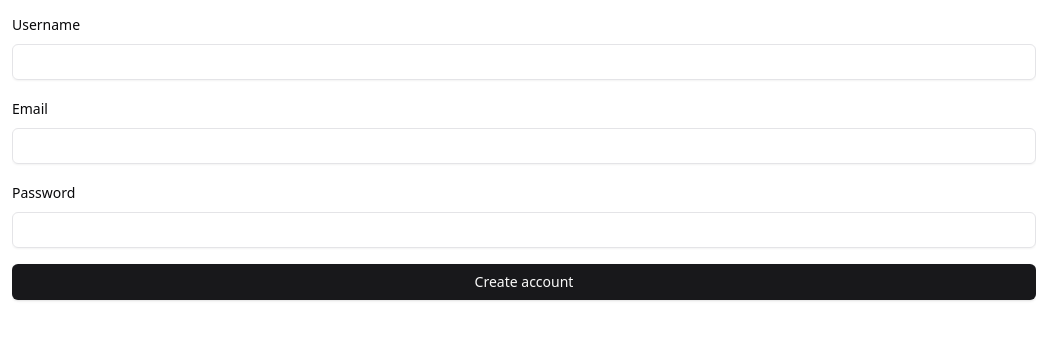
it: RegisterForm › requires a username
Type "new@example.com" into the field labelled "Email". click: coordinates (524, 146)
box: [12,128,1036,164]
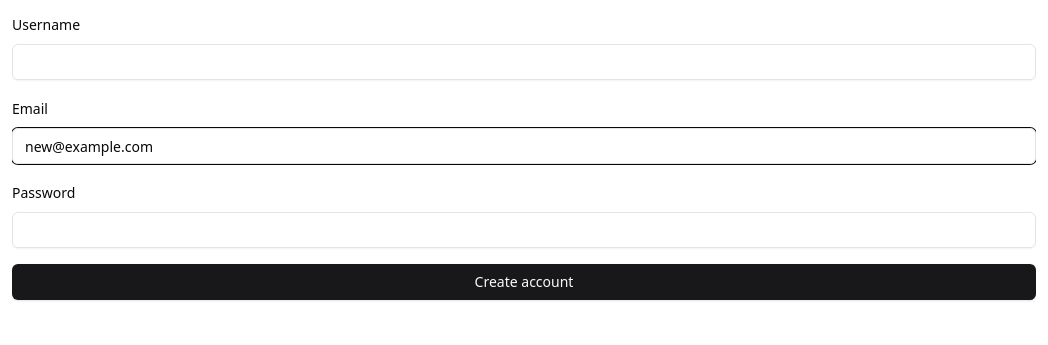
Type "password-123" into the password field labelled "Password". click: coordinates (524, 230)
box: [12,212,1036,248]
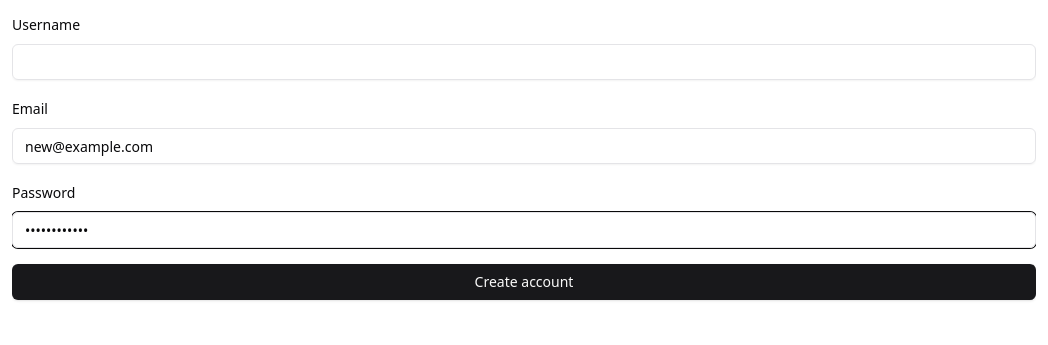
Click the button "Create account". click: coordinates (524, 282)
box: [12,264,1036,300]
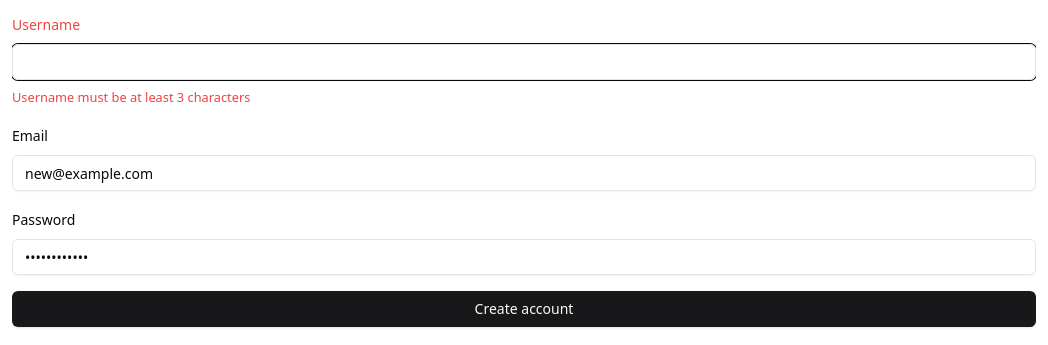
Now the text "Username must be at least 3 characters" is shown, box [12,88,250,106]
